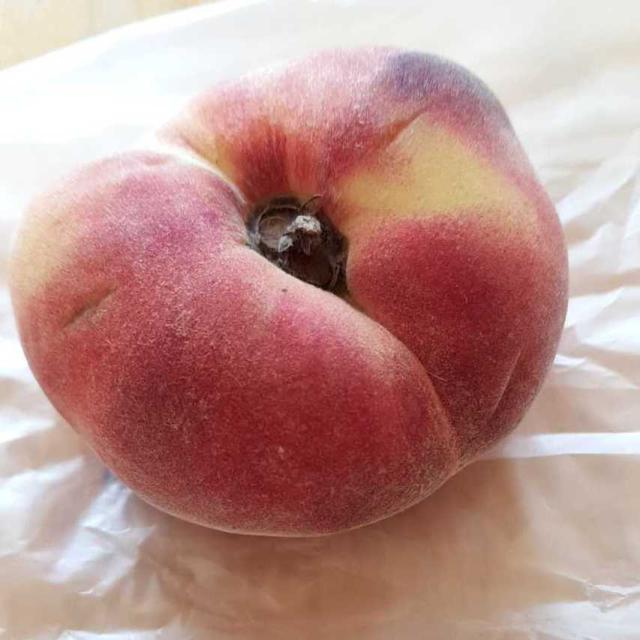peach: (21, 57, 538, 534)
